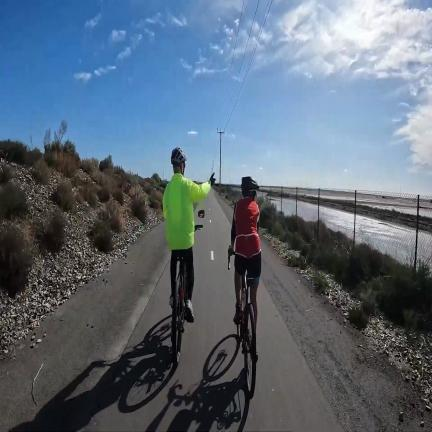Bike_Lane: (84, 196, 343, 432)
